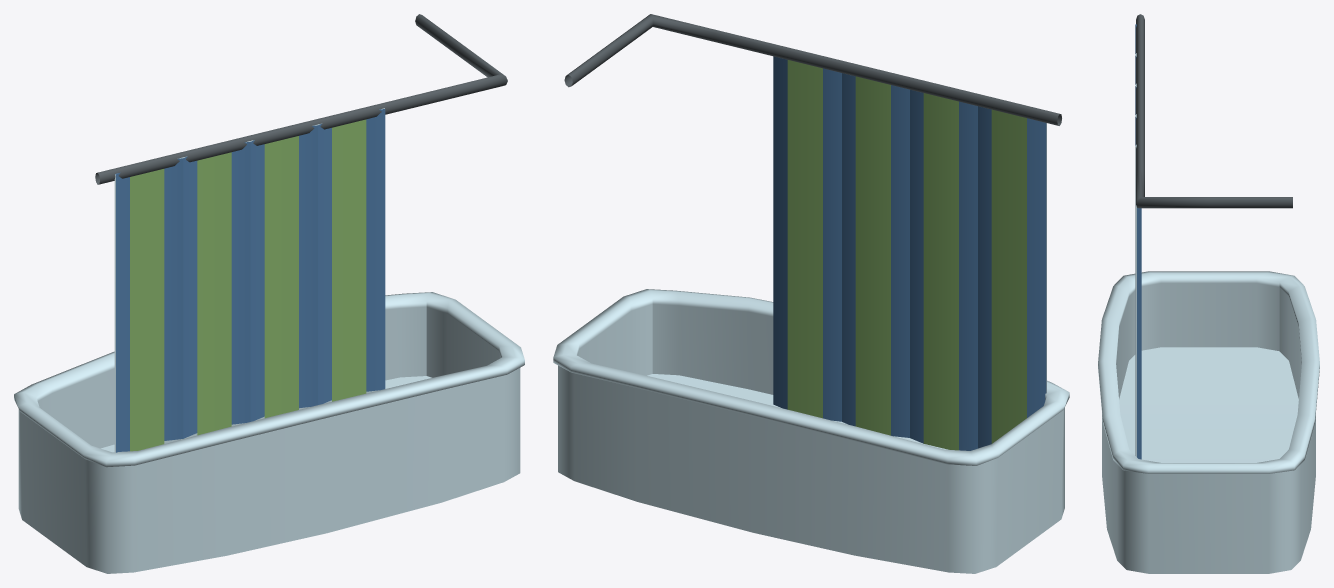
File: vasca.fbx
The picture shows the model from 3 angles, left to right: view 1: azimuth 30°, elevation 25°; view 2: azimuth 150°, elevation 25°; view 3: azimuth 270°, elevation 25°; orthographic projection. The views are drawn at different scales.
Visible parts, largest first — view 1: Vasca; view 2: Vasca; view 3: Vasca.
Boxes of the visible parts, bbox=[...] form: Vasca: bbox=[14, 14, 524, 573]; Vasca: bbox=[553, 14, 1069, 573]; Vasca: bbox=[1098, 14, 1319, 573].
Size of the model in its own units: 4.53 by 3.92 by 2.14.
